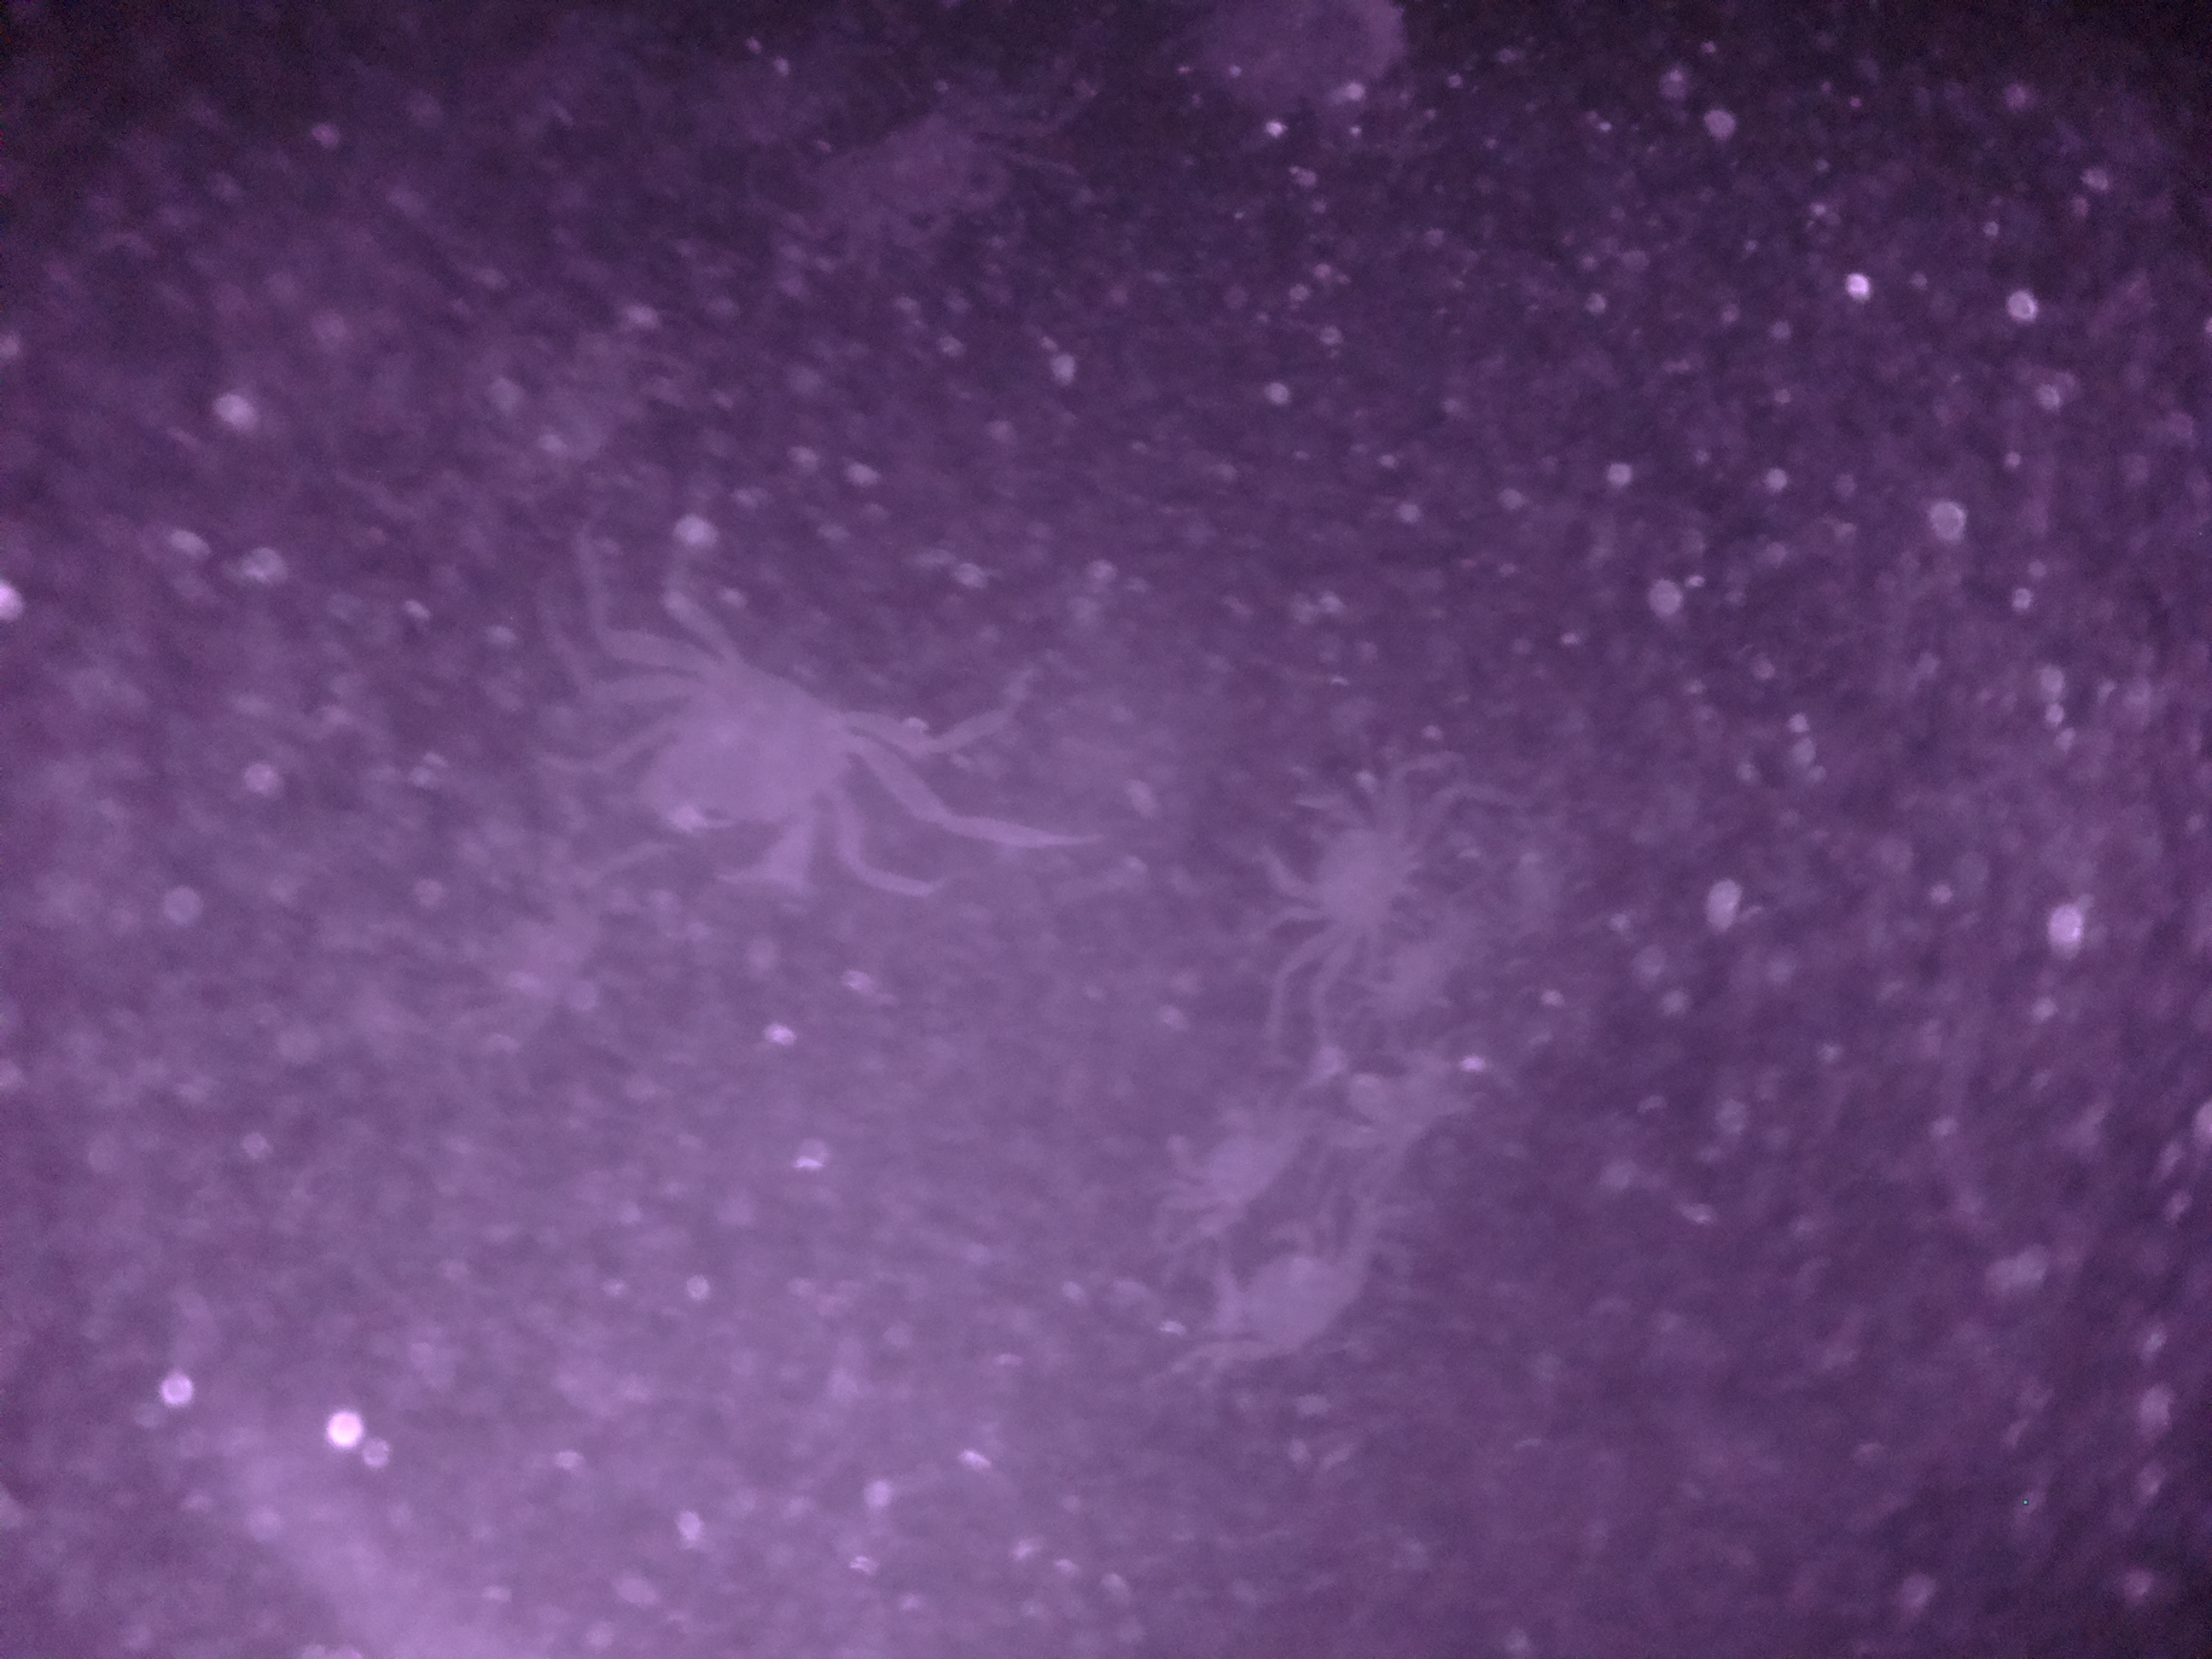Crab: (594, 640, 907, 904), (1245, 770, 1435, 951), (1150, 1079, 1291, 1229)
